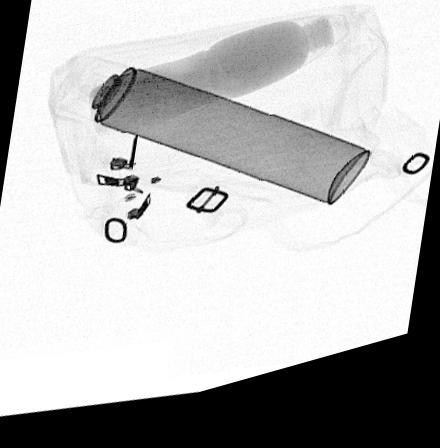Sprayer: (47, 58, 374, 225)
